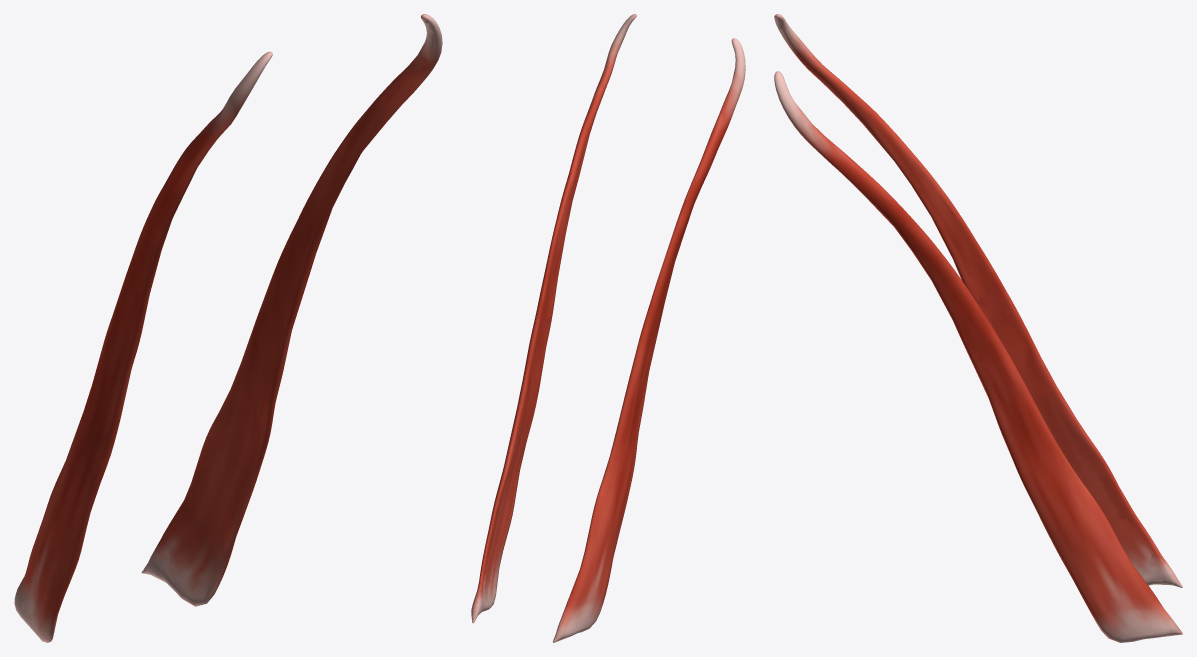
File: Longissimus Cervicis.fbx
The picture shows the model from 3 angles, left to right: view 1: azimuth 30°, elevation 25°; view 2: azimuth 150°, elevation 25°; view 3: azimuth 270°, elevation 25°; orthographic projection. The views are drawn at different scales.
Visible parts, largest first — view 1: Longissimus Cervicis, Longissimus Cervicis low; view 2: Longissimus Cervicis, Longissimus Cervicis low; view 3: Longissimus Cervicis, Longissimus Cervicis low.
Part boxes in pixels (bbox=[...]): Longissimus Cervicis: bbox=[14, 14, 442, 642]; Longissimus Cervicis low: bbox=[16, 19, 440, 641]; Longissimus Cervicis: bbox=[471, 14, 745, 642]; Longissimus Cervicis low: bbox=[472, 20, 739, 642]; Longissimus Cervicis: bbox=[774, 14, 1182, 642]; Longissimus Cervicis low: bbox=[776, 18, 1181, 642].
Bounding box in the file's own units: 16.2 × 56.32 × 36.41.
